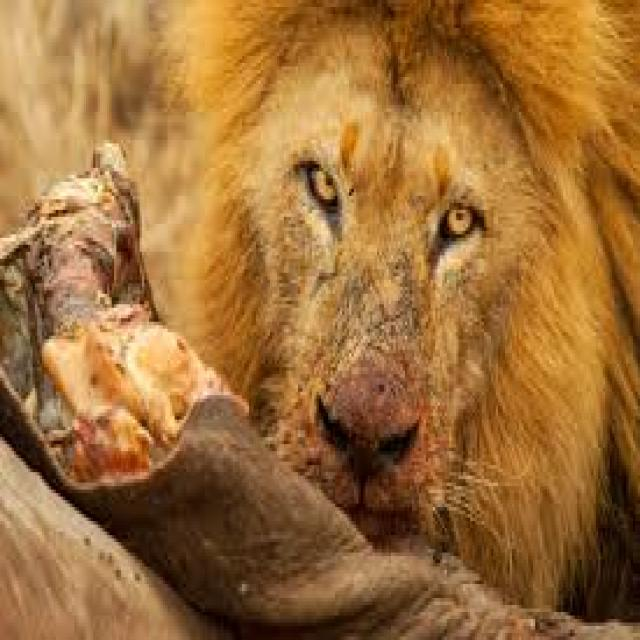Lion: (155, 2, 638, 628)
